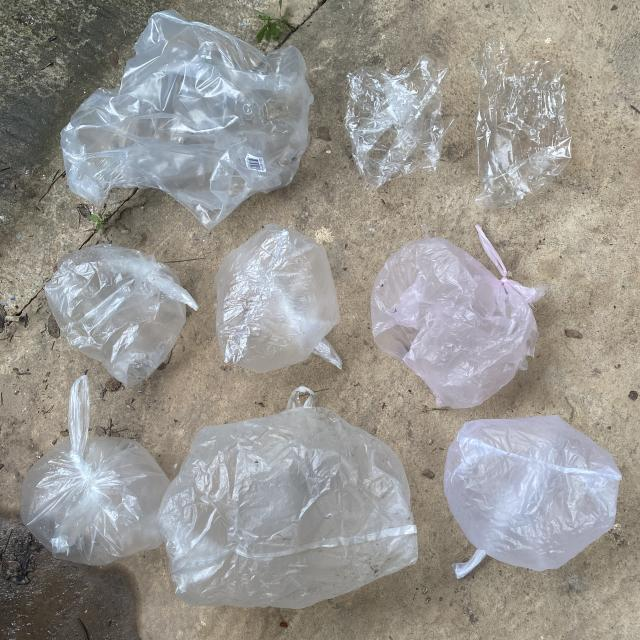Single-layer Plastic: (159, 388, 418, 609), (61, 11, 314, 229), (371, 228, 542, 409), (444, 415, 621, 578), (20, 375, 169, 565), (45, 244, 198, 388), (215, 224, 342, 372), (475, 42, 571, 209), (345, 54, 455, 188)
